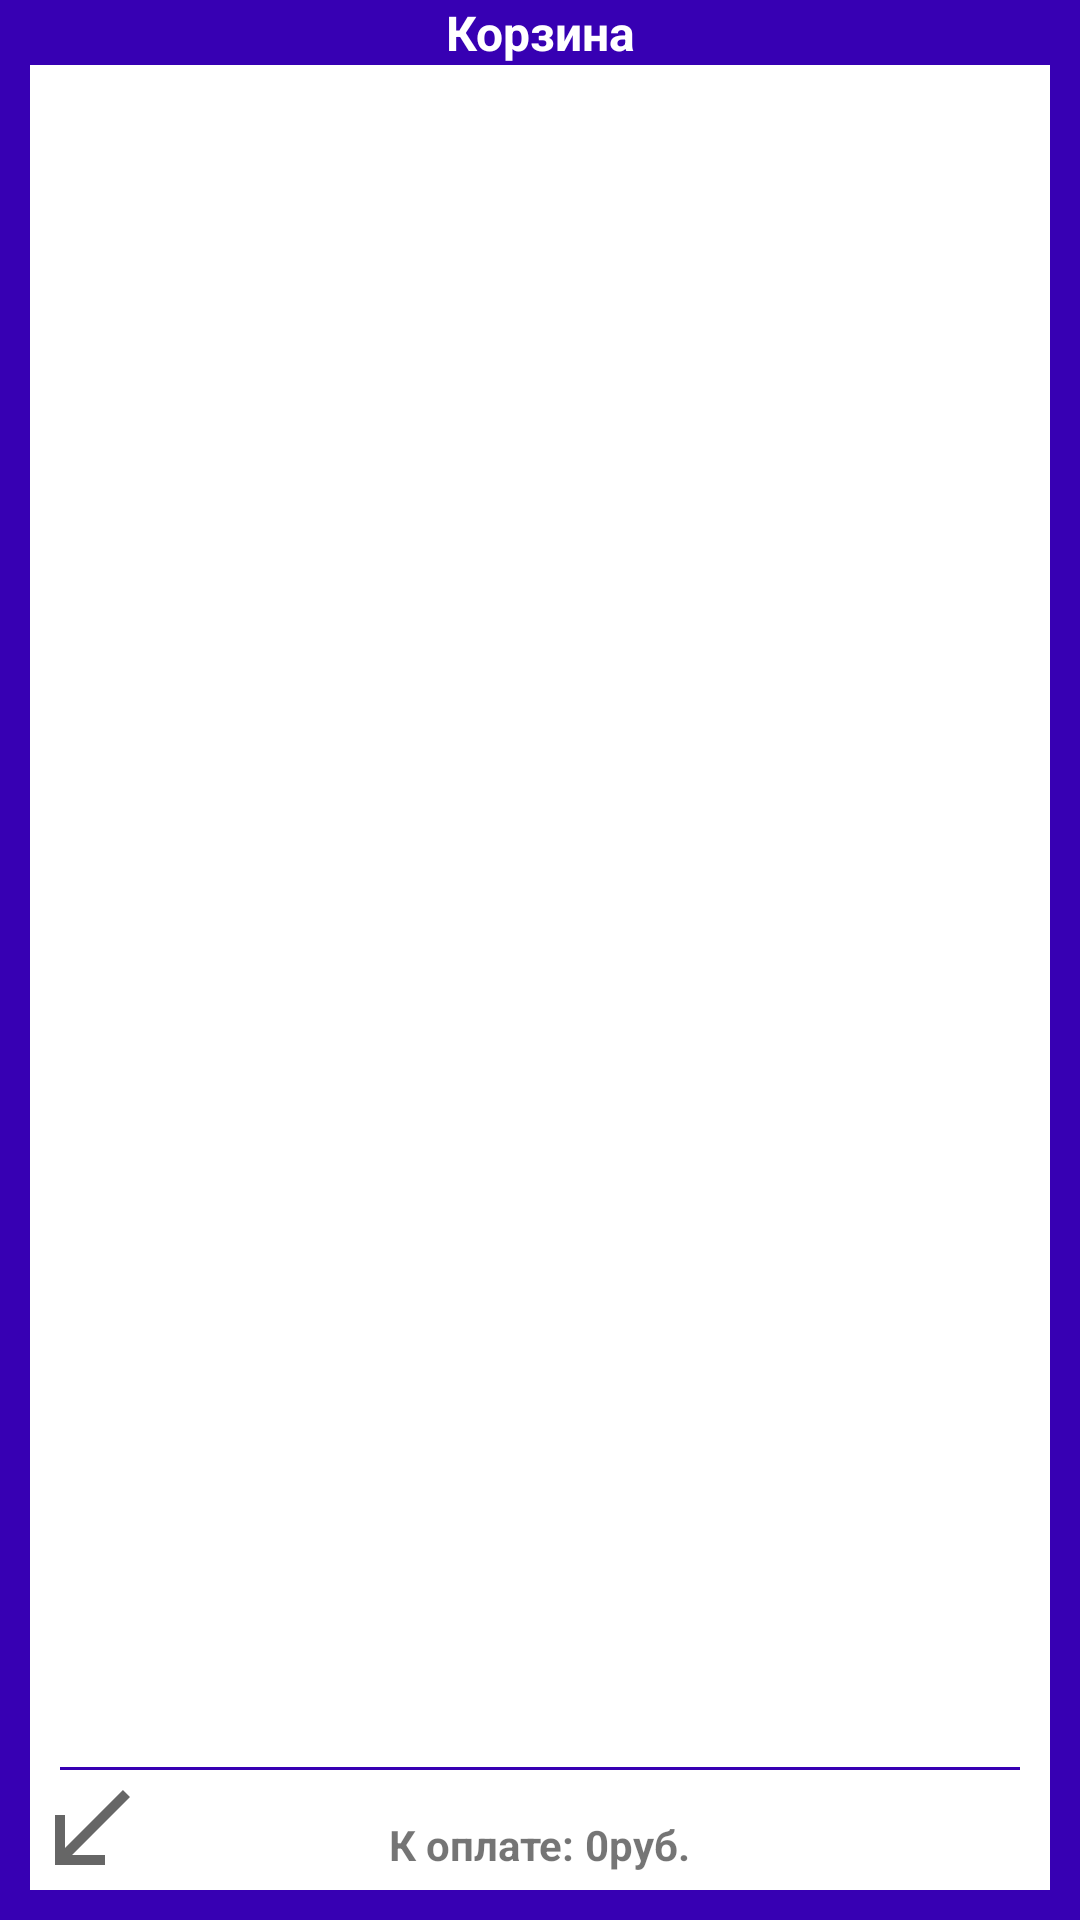

Named icons in this screenshot (1080*1920) and their bounding boxes, (x1, y1, x2, y2):
back: (55, 1790, 130, 1865)
